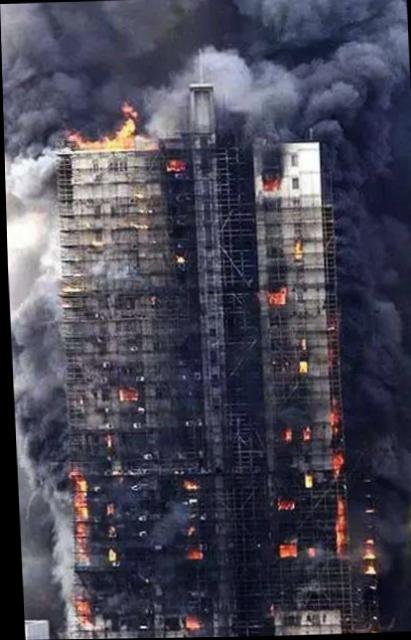fire: (57, 101, 140, 154), (65, 466, 92, 565), (330, 495, 345, 554), (359, 532, 373, 578), (253, 171, 277, 197), (115, 382, 134, 403), (264, 287, 285, 305), (293, 233, 305, 261), (275, 542, 295, 557), (301, 420, 311, 440), (274, 497, 290, 508), (184, 545, 196, 558), (184, 615, 196, 626), (281, 427, 289, 442)
